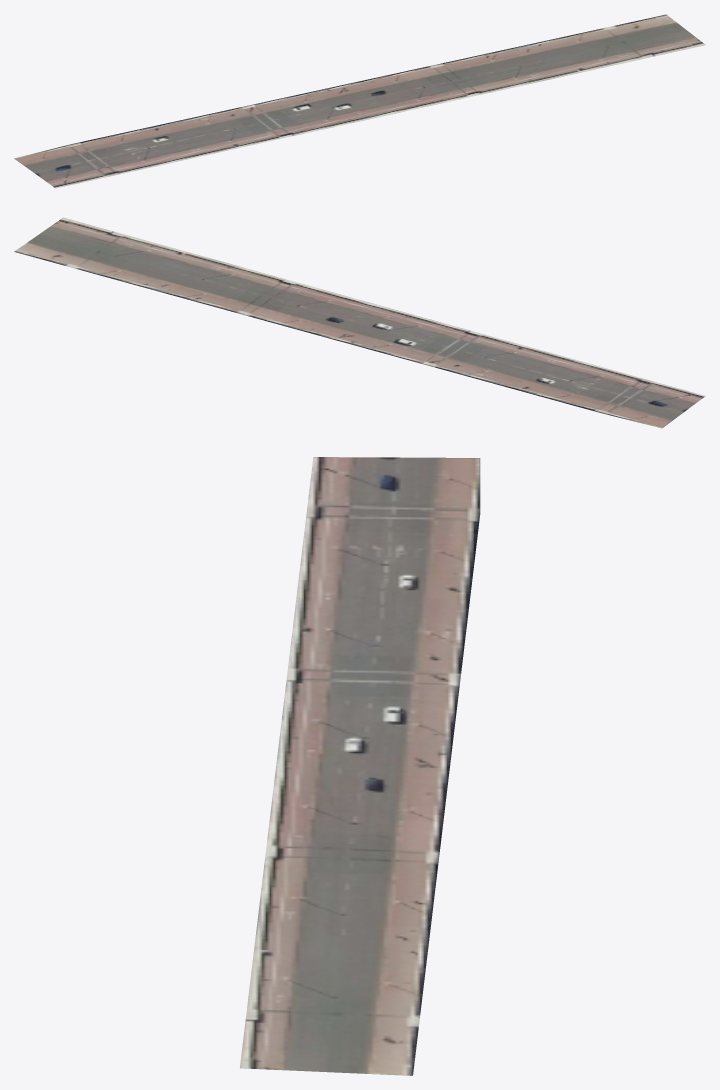
The picture shows the model from 3 angles, top to bottom: view 1: azimuth 30°, elevation 25°; view 2: azimuth 150°, elevation 25°; view 3: azimuth 270°, elevation 25°; orthographic projection. The views are drawn at different scales.
Parts seen in each view (by area): view 1: Z_UP; view 2: Z_UP; view 3: Z_UP.
Part boxes in pixels (x1,y1,x2,y2): Z_UP: (14,14,705,188); Z_UP: (14,217,705,428); Z_UP: (240,457,480,1075).
Size of the model in its own units: 186 by 0.907 by 30.42.
1 material, 1 textured.
